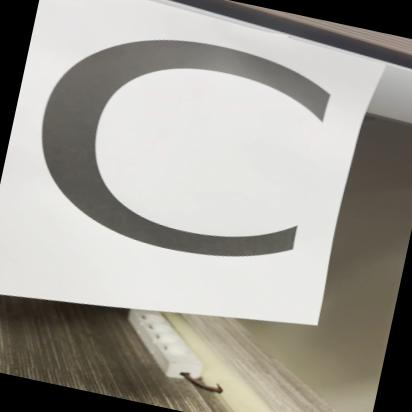seat: (0, 0, 369, 326)
